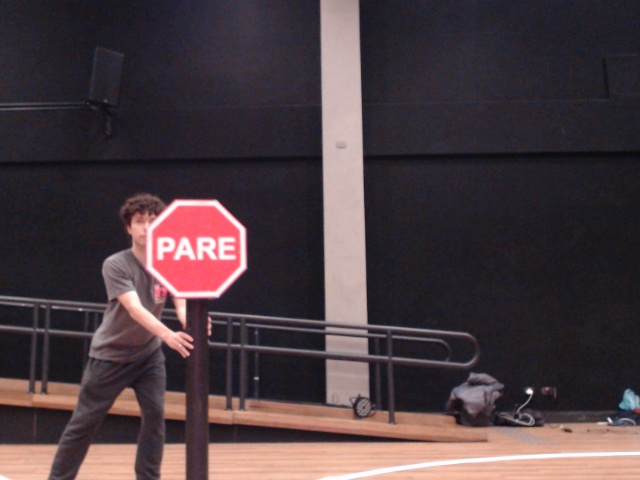SEMAFORO: (135, 189, 273, 316)
